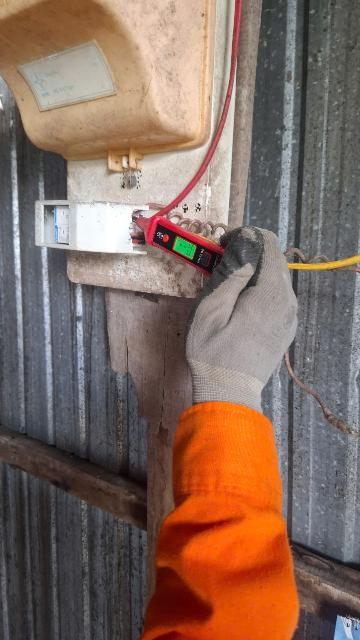gloves: (151, 216, 315, 423)
